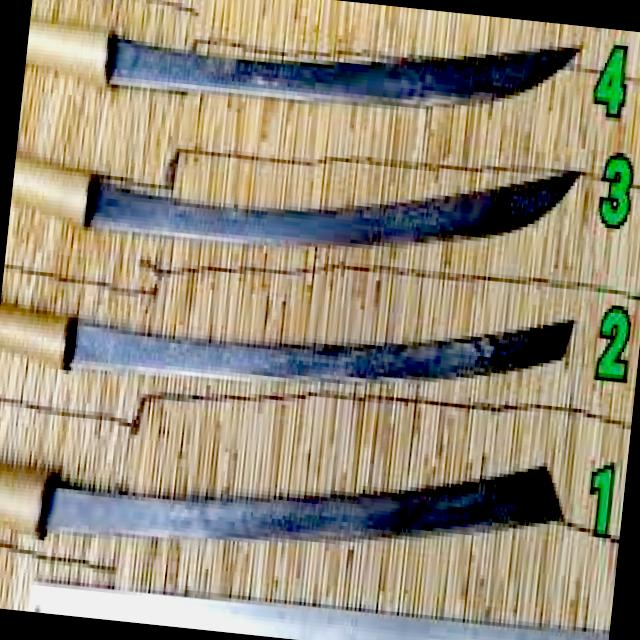long sword: (0, 251, 587, 434), (0, 404, 570, 588), (9, 107, 580, 286), (23, 0, 584, 139)
